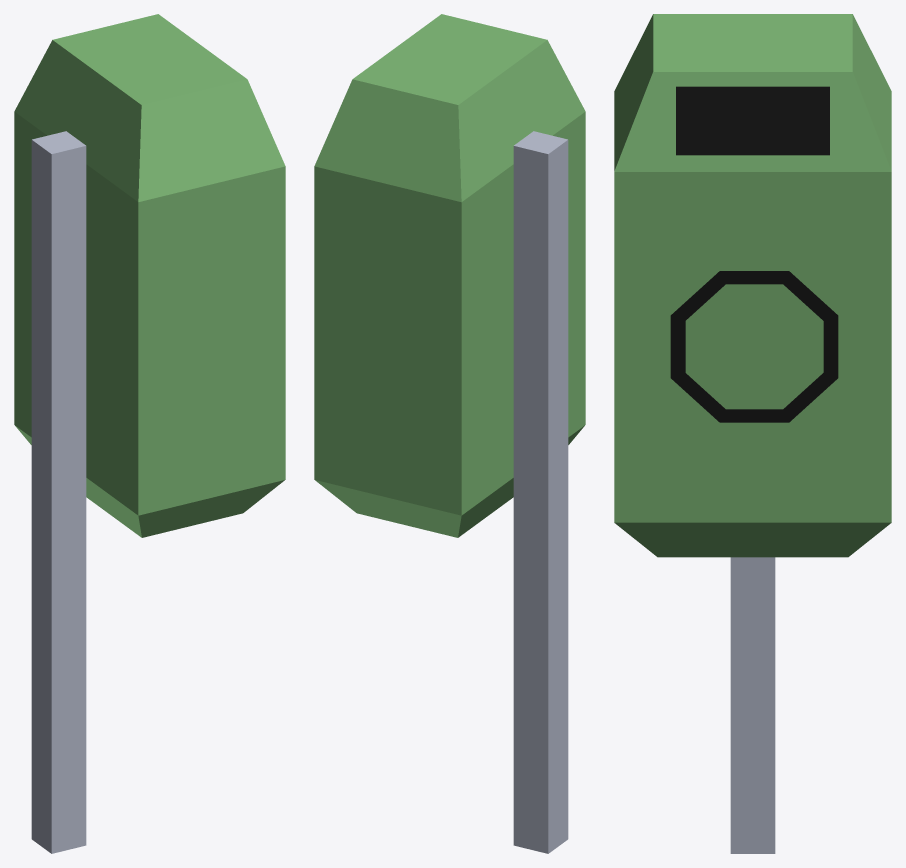
The model's file is bin.fbx.
3 renders of one model, left to right at view 1: azimuth 30°, elevation 25°; view 2: azimuth 150°, elevation 25°; view 3: azimuth 270°, elevation 25°, orthographic. The views are drawn at different scales.
Visible parts, largest first — view 1: Plane.001; view 2: Plane.001; view 3: Plane.001.
Part boxes in pixels (x1,y1,x2,y2): Plane.001: (14, 14, 285, 853); Plane.001: (314, 14, 585, 853); Plane.001: (614, 14, 891, 853).
Bounding box in the file's own units: 27.33 × 109 × 32.26.
